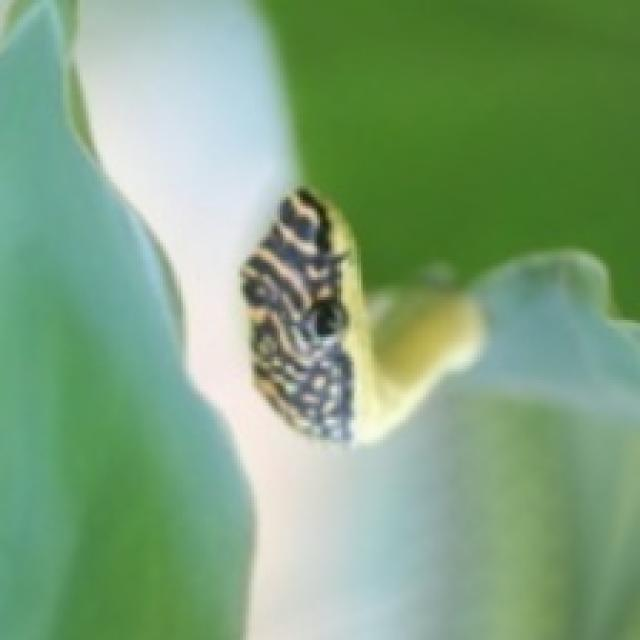paradise tree snake: (240, 189, 480, 440)
